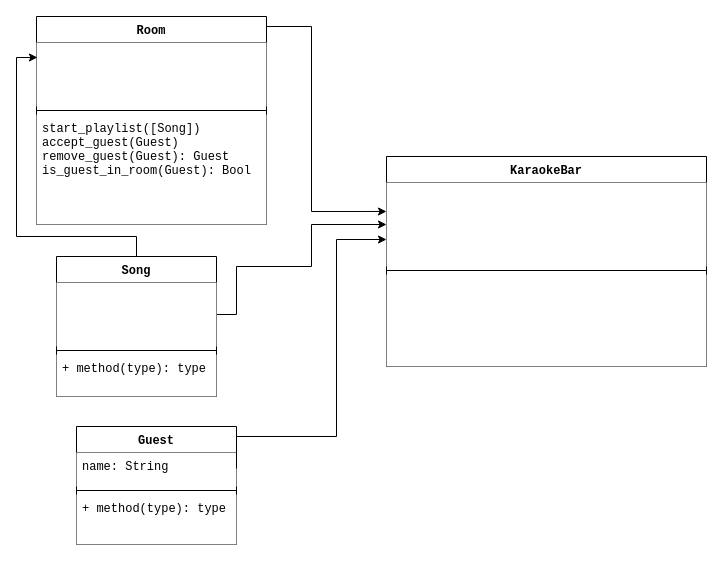
Image size: 723x561. Some labels were removed from this diagram. The shapes that lost their labels are listed below. From the top down, each one's centre as x and y in pixels, then its label:
point 151,74: playlist: [Song] guests: [Guest]
point 546,224: name: String rooms: [Room] songs: [Song] guests: [Guest]
point 136,314: title: String artist: String
point 546,320: create_playlist_for_room(Room): [Song] send_guest_to_room(Guest): Room
